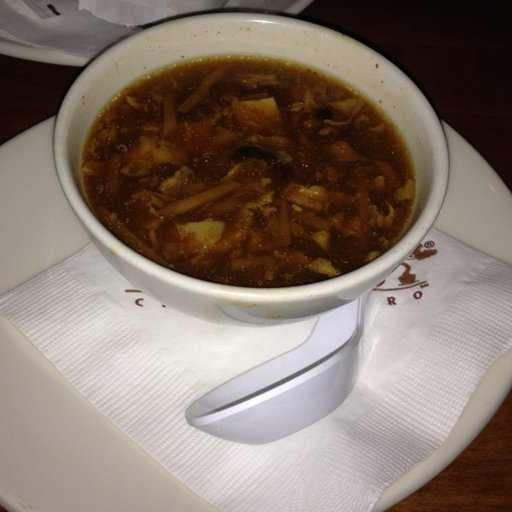soup: (58, 44, 430, 277)
